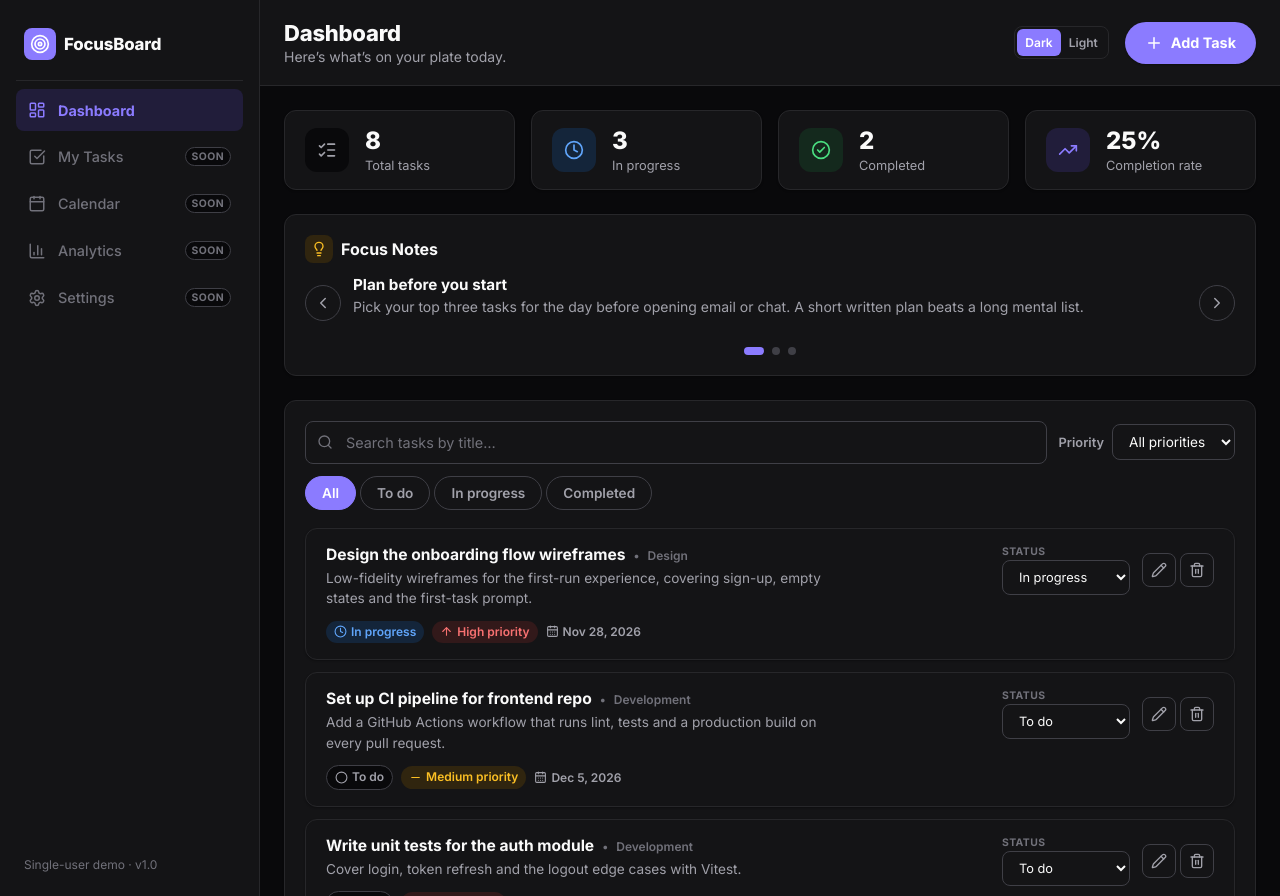
it: FocusBoard App › edits an existing task in place, preserving its identity
Click the button named "edit task" at (1159, 714), box [1142,697,1176,731]
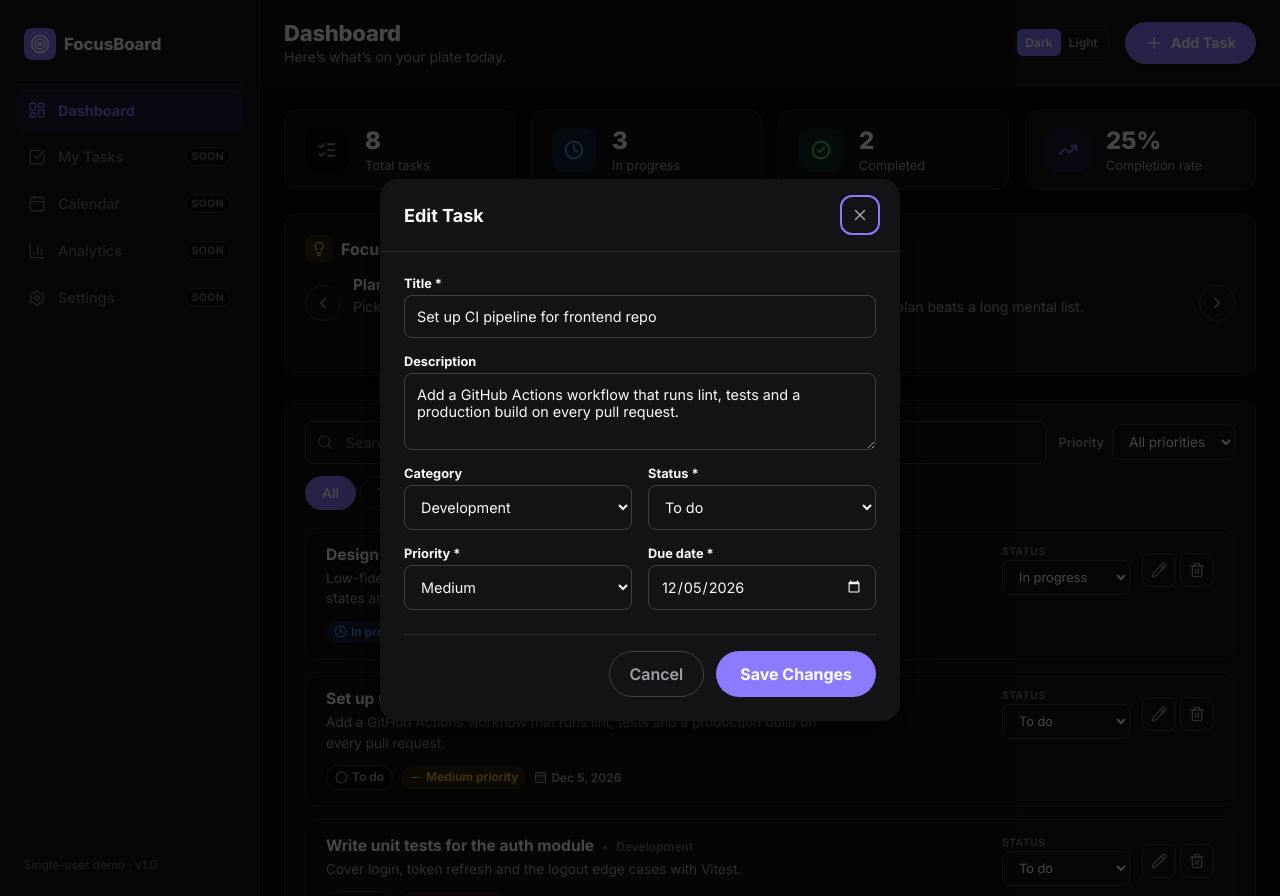
Replace the text in the field labelled "Title *" with "Set up CI/CD pipeline" at (640, 316), box [404,295,876,338]
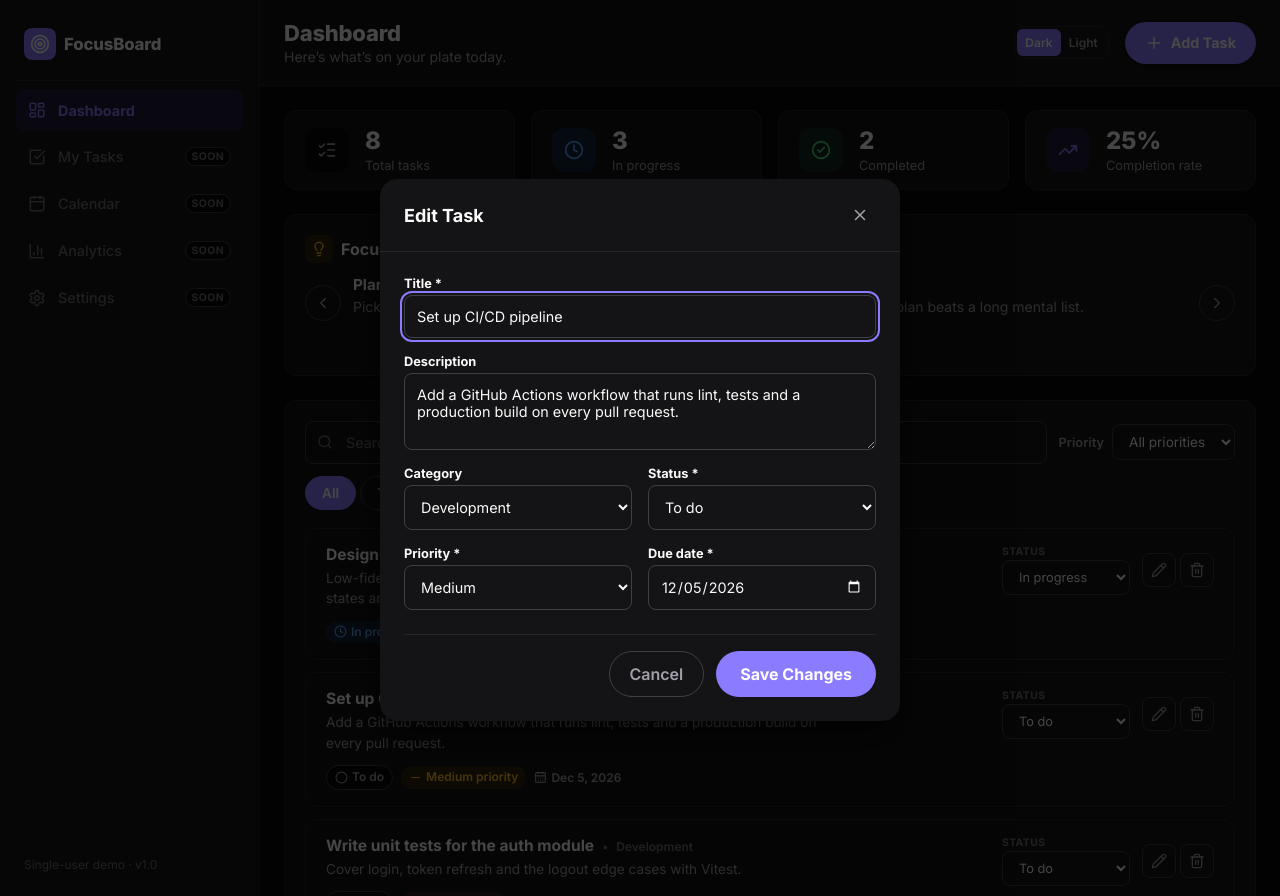
Click the button "Save Changes" at (796, 674), box [716,651,876,697]
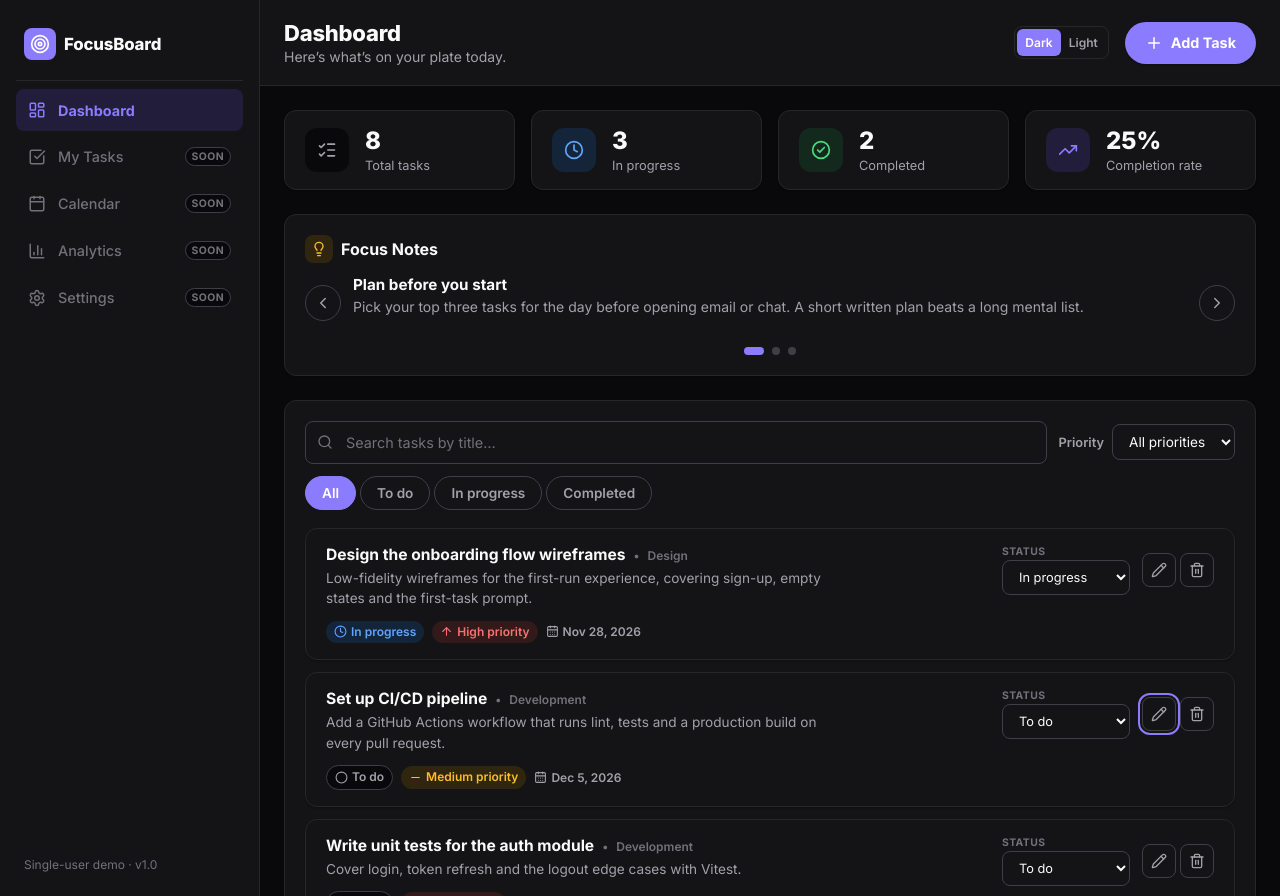
Expected: the heading "Set up CI/CD pipeline" is shown, [326,689,487,708]
Expected: the heading "Set up CI pipeline for frontend repo" is gone
